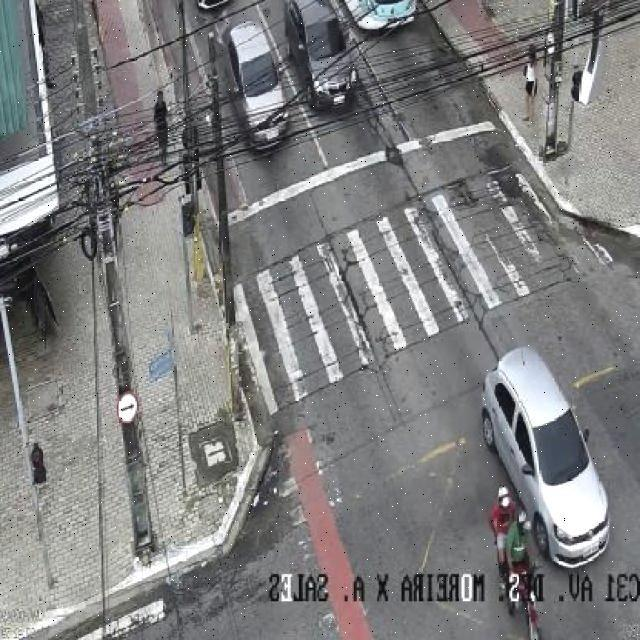Car: (476, 343, 613, 570), (222, 20, 291, 158), (283, 0, 363, 118)
Cycle: (502, 551, 548, 639)
